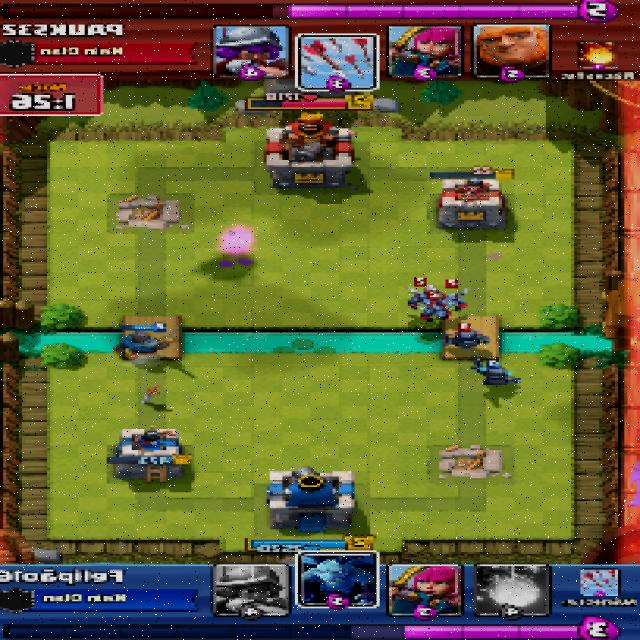Enemy-MiniPEKKA: (447, 329, 493, 350)
Enemy-Minion: (412, 284, 443, 304), (440, 292, 470, 309), (421, 304, 449, 321)
Player-Knight: (115, 332, 176, 357)
Player-MiniPEKKA: (479, 365, 515, 387)
